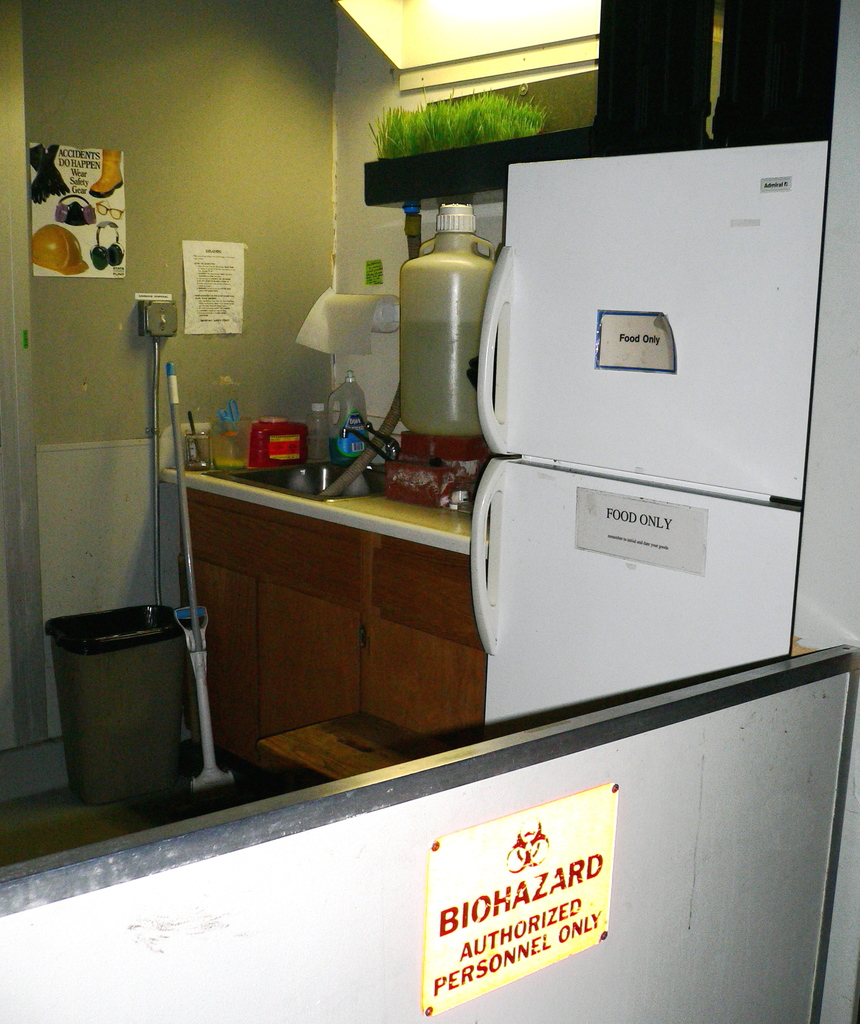cabinet door: (194, 503, 355, 579), (261, 583, 353, 707), (368, 626, 482, 725), (370, 555, 474, 623)
handle: (466, 250, 517, 442), (465, 449, 504, 650)
refrigerator door: (511, 172, 808, 488), (507, 492, 790, 657)
